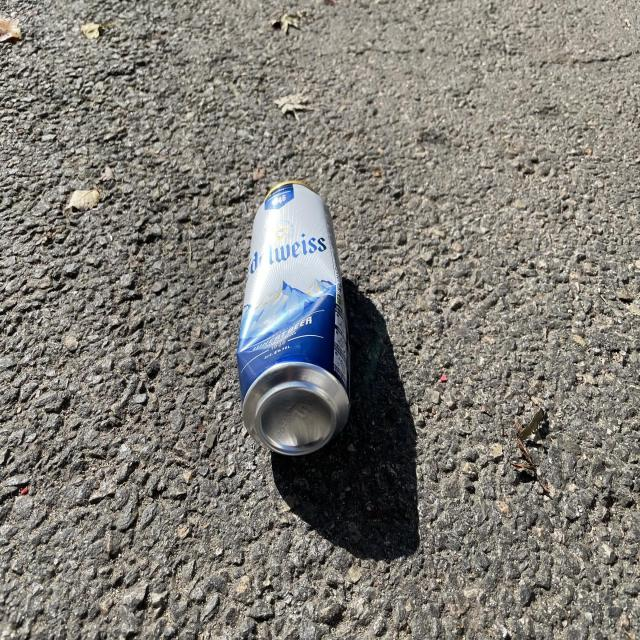can: (237, 180, 350, 456)
